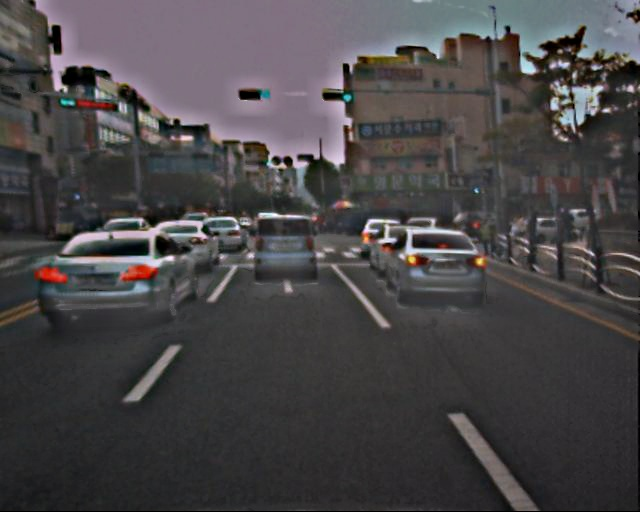person: (479, 216, 496, 257), (559, 205, 575, 245)
